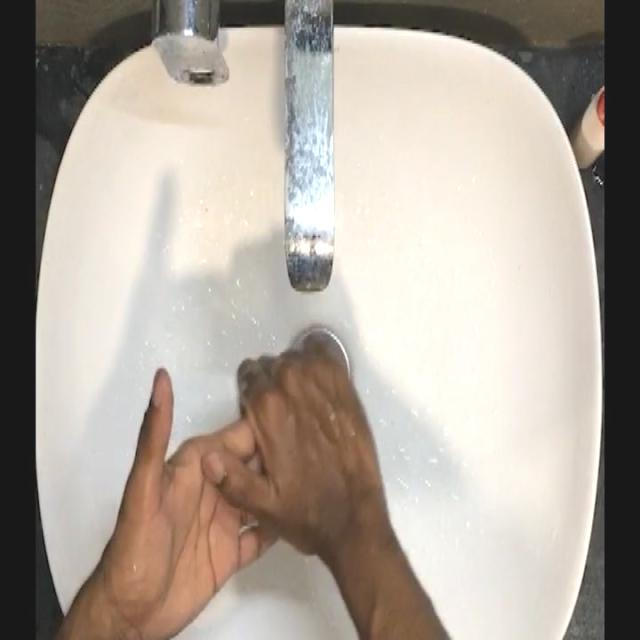step_5: (106, 322, 383, 630)
